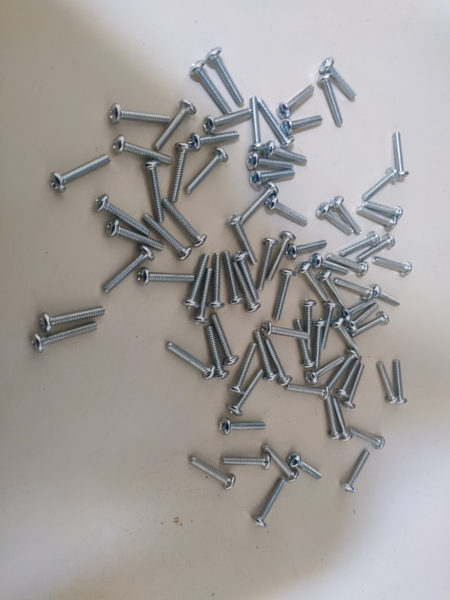longscrew: (99, 248, 156, 292), (95, 199, 157, 236), (51, 154, 111, 192), (146, 215, 192, 262), (192, 60, 231, 112), (209, 47, 245, 103), (103, 224, 166, 253), (30, 324, 98, 350), (40, 305, 108, 331), (187, 457, 236, 493), (187, 151, 227, 195), (154, 103, 193, 148), (166, 201, 207, 243), (110, 104, 170, 132), (112, 136, 172, 164), (165, 344, 215, 377), (252, 478, 284, 529), (258, 99, 291, 147), (204, 324, 230, 383), (166, 141, 190, 204), (319, 74, 348, 126), (323, 59, 358, 101), (143, 162, 165, 228), (230, 215, 259, 265), (233, 252, 262, 302), (187, 253, 212, 311), (262, 443, 301, 480), (230, 371, 265, 412), (233, 340, 259, 395), (233, 266, 262, 315), (243, 185, 280, 223), (212, 312, 238, 366), (298, 265, 333, 305), (137, 267, 197, 290), (275, 267, 300, 321), (268, 339, 297, 385), (257, 238, 280, 295), (328, 353, 362, 390), (270, 234, 296, 282), (255, 330, 277, 386), (267, 198, 309, 227), (280, 82, 314, 117), (307, 356, 347, 385), (288, 452, 325, 483), (204, 108, 253, 131), (343, 452, 371, 492), (224, 251, 245, 304), (332, 196, 361, 234), (317, 204, 351, 236), (321, 271, 349, 309), (357, 207, 398, 232), (366, 165, 396, 199), (332, 393, 352, 443), (188, 131, 240, 150), (348, 303, 380, 333), (340, 358, 364, 398), (358, 236, 396, 261), (340, 233, 381, 256), (327, 253, 368, 276), (250, 168, 296, 188), (310, 254, 350, 277), (261, 324, 312, 342), (212, 253, 228, 310), (347, 366, 368, 409), (288, 240, 329, 262), (194, 271, 211, 324), (265, 142, 310, 162), (248, 152, 293, 172), (334, 320, 364, 350), (321, 303, 338, 355), (378, 363, 398, 406), (375, 256, 412, 279), (334, 278, 372, 300), (369, 286, 407, 308), (221, 454, 271, 470), (297, 319, 312, 372), (354, 314, 390, 336), (395, 130, 410, 181), (394, 358, 409, 409), (285, 383, 327, 401), (282, 115, 321, 134), (218, 420, 267, 435), (311, 318, 325, 369), (342, 303, 379, 322), (351, 432, 384, 452), (250, 97, 262, 151), (364, 200, 403, 215), (329, 402, 341, 448), (305, 298, 315, 351)
